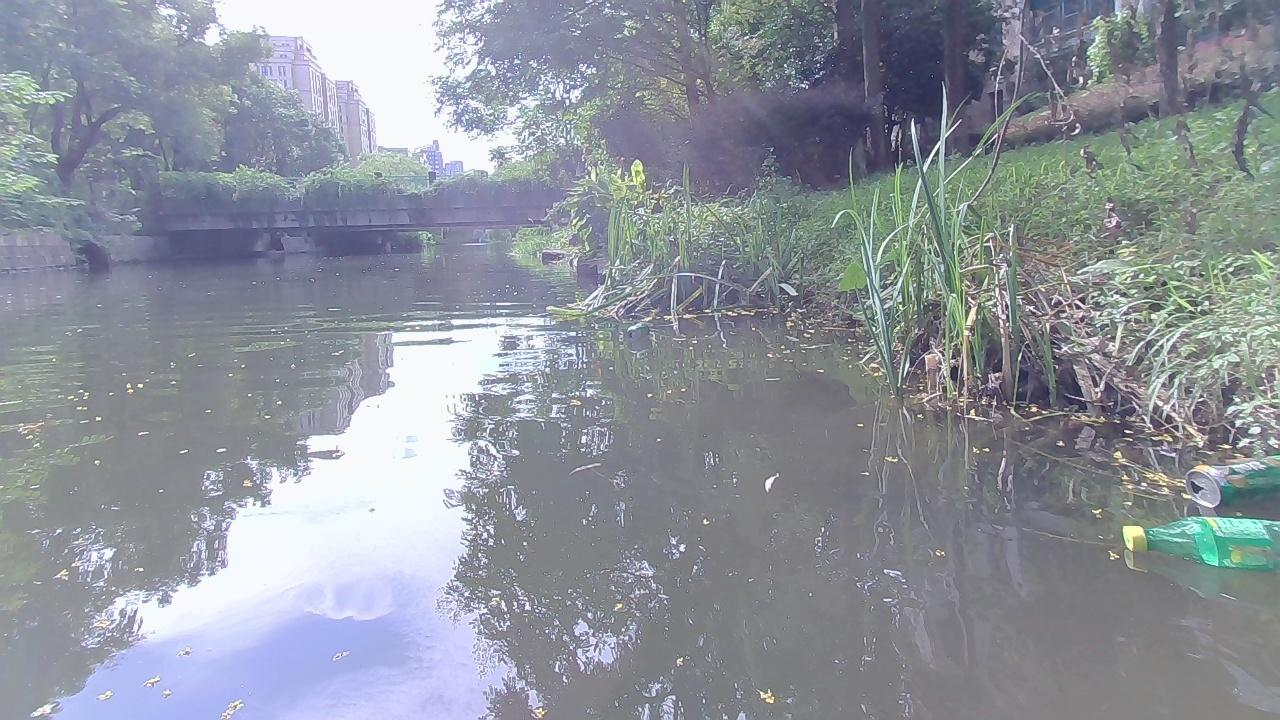bottle: (1120, 516, 1279, 570), (1183, 459, 1279, 510)
